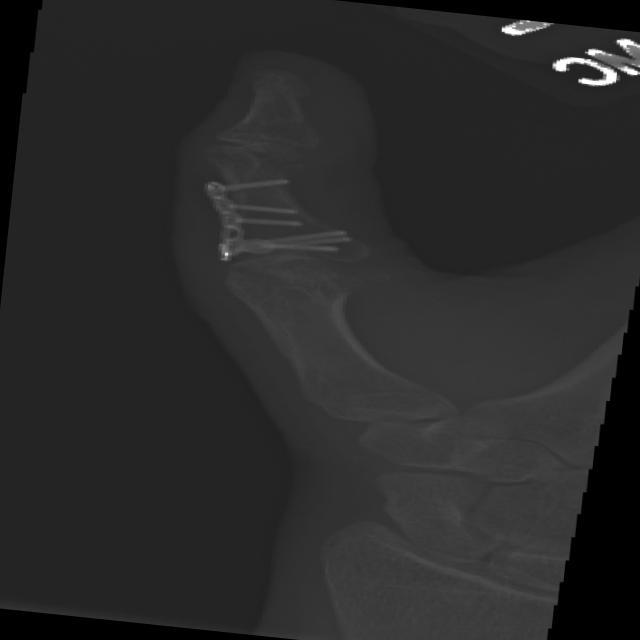fingers positive: (166, 115, 412, 317)
